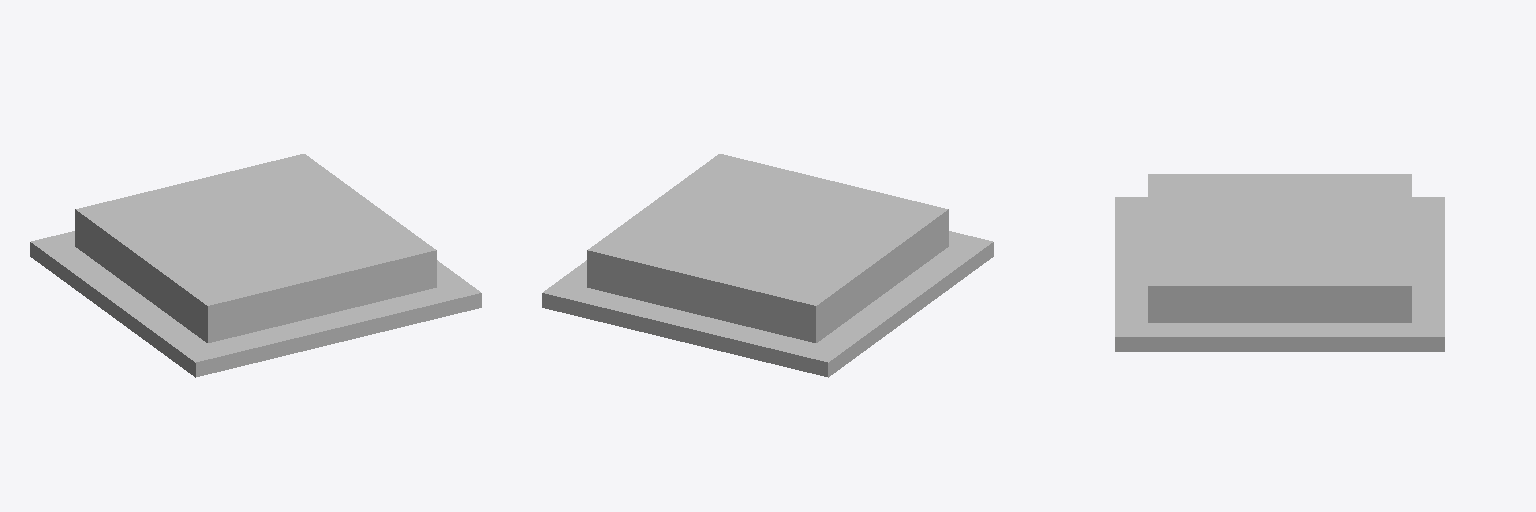
File: switch.obj
3 views of the same model, side by side, from view 1: azimuth 30°, elevation 25°; view 2: azimuth 150°, elevation 25°; view 3: azimuth 270°, elevation 25° (orthographic).
Visible parts, largest first — view 1: object 1; view 2: object 1; view 3: object 1.
Part boxes in pixels (x1,y1,x2,y2): object 1: (30,154,481,377); object 1: (542,154,993,377); object 1: (1115,174,1444,351).
Bounding box in the file's own units: 4 × 0.7 × 4.